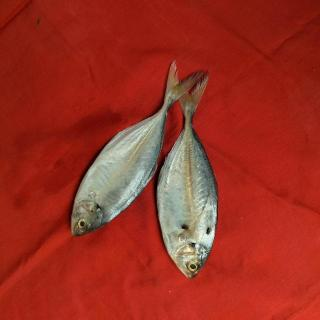Ikan: (66, 61, 232, 286)
